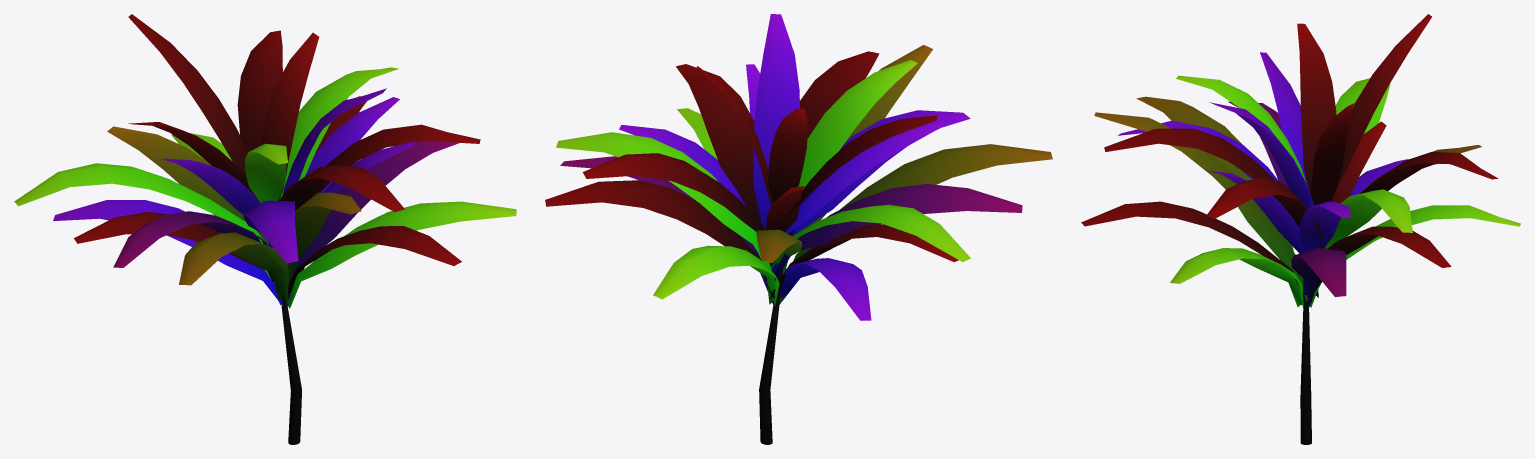
Rendered from Pink_cordyline_var3.fbx.
The picture shows the model from 3 angles, left to right: view 1: azimuth 30°, elevation 25°; view 2: azimuth 150°, elevation 25°; view 3: azimuth 270°, elevation 25°; orthographic projection. The views are drawn at different scales.
Visible parts, largest first — view 1: Pink_Cordyline_var3_LOD0; view 2: Pink_Cordyline_var3_LOD0; view 3: Pink_Cordyline_var3_LOD0.
Part boxes in pixels (bbox=[...]): Pink_Cordyline_var3_LOD0: bbox=[14, 14, 516, 444]; Pink_Cordyline_var3_LOD0: bbox=[545, 14, 1052, 444]; Pink_Cordyline_var3_LOD0: bbox=[1081, 14, 1520, 444].
Size of what is drawn, in the model's own units: 0.9225 by 0.8359 by 0.8709.
